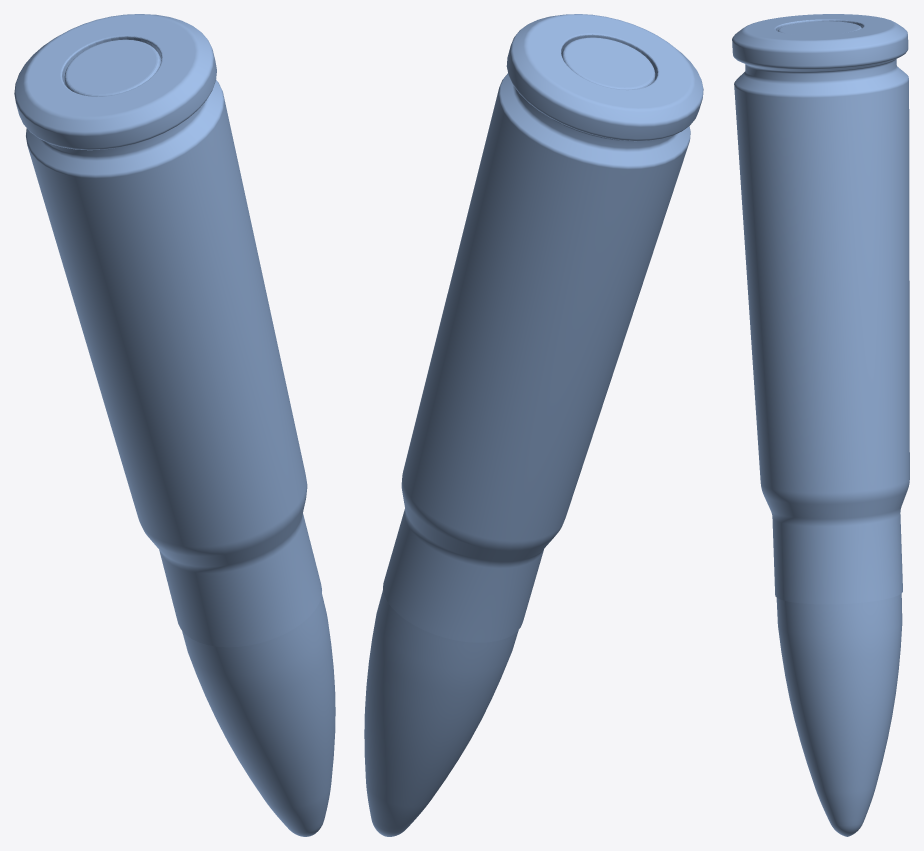
The model's file is bulet.obj.
3 views of the same model, side by side, from view 1: azimuth 30°, elevation 25°; view 2: azimuth 150°, elevation 25°; view 3: azimuth 270°, elevation 25° (orthographic). The views are drawn at different scales.
Visible parts, largest first — view 1: Line062, Line061; view 2: Line062, Line061; view 3: Line062, Line061.
Boxes of the visible parts, <box> form: Line062: <box>14,14,321,647</box>; Line061: <box>182,594,335,836</box>; Line062: <box>383,14,703,642</box>; Line061: <box>364,590,518,836</box>; Line062: <box>732,14,909,604</box>; Line061: <box>776,593,902,836</box>.
Bounding box in the file's own units: 8.25 × 21.5 × 4.7.
